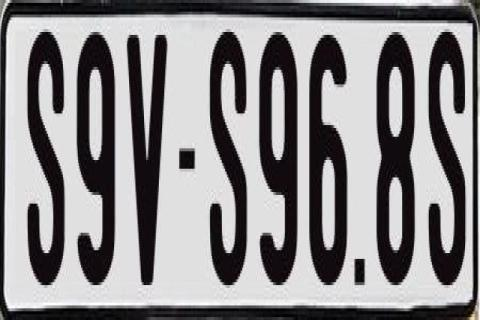0: (258, 24, 301, 282), (77, 23, 116, 291), (376, 29, 416, 285), (308, 29, 346, 297)
S: (207, 26, 250, 288), (27, 29, 65, 299), (426, 29, 458, 285)
V: (127, 32, 174, 288)
